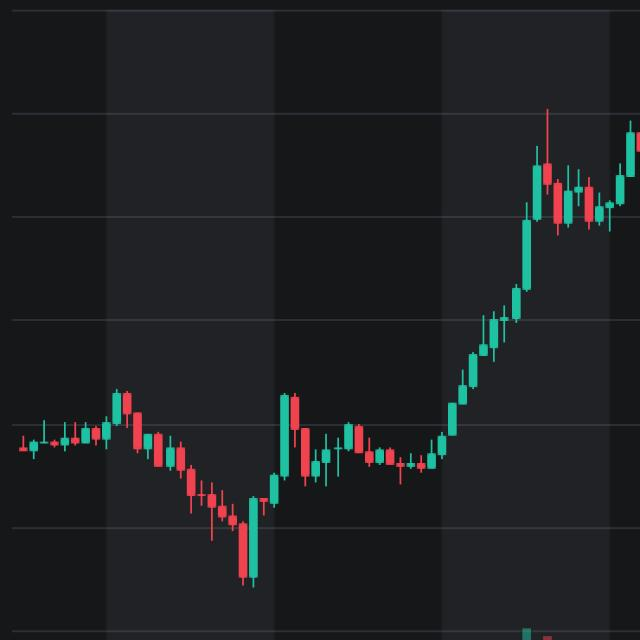Head-Shoulders: (234, 355, 414, 603)
